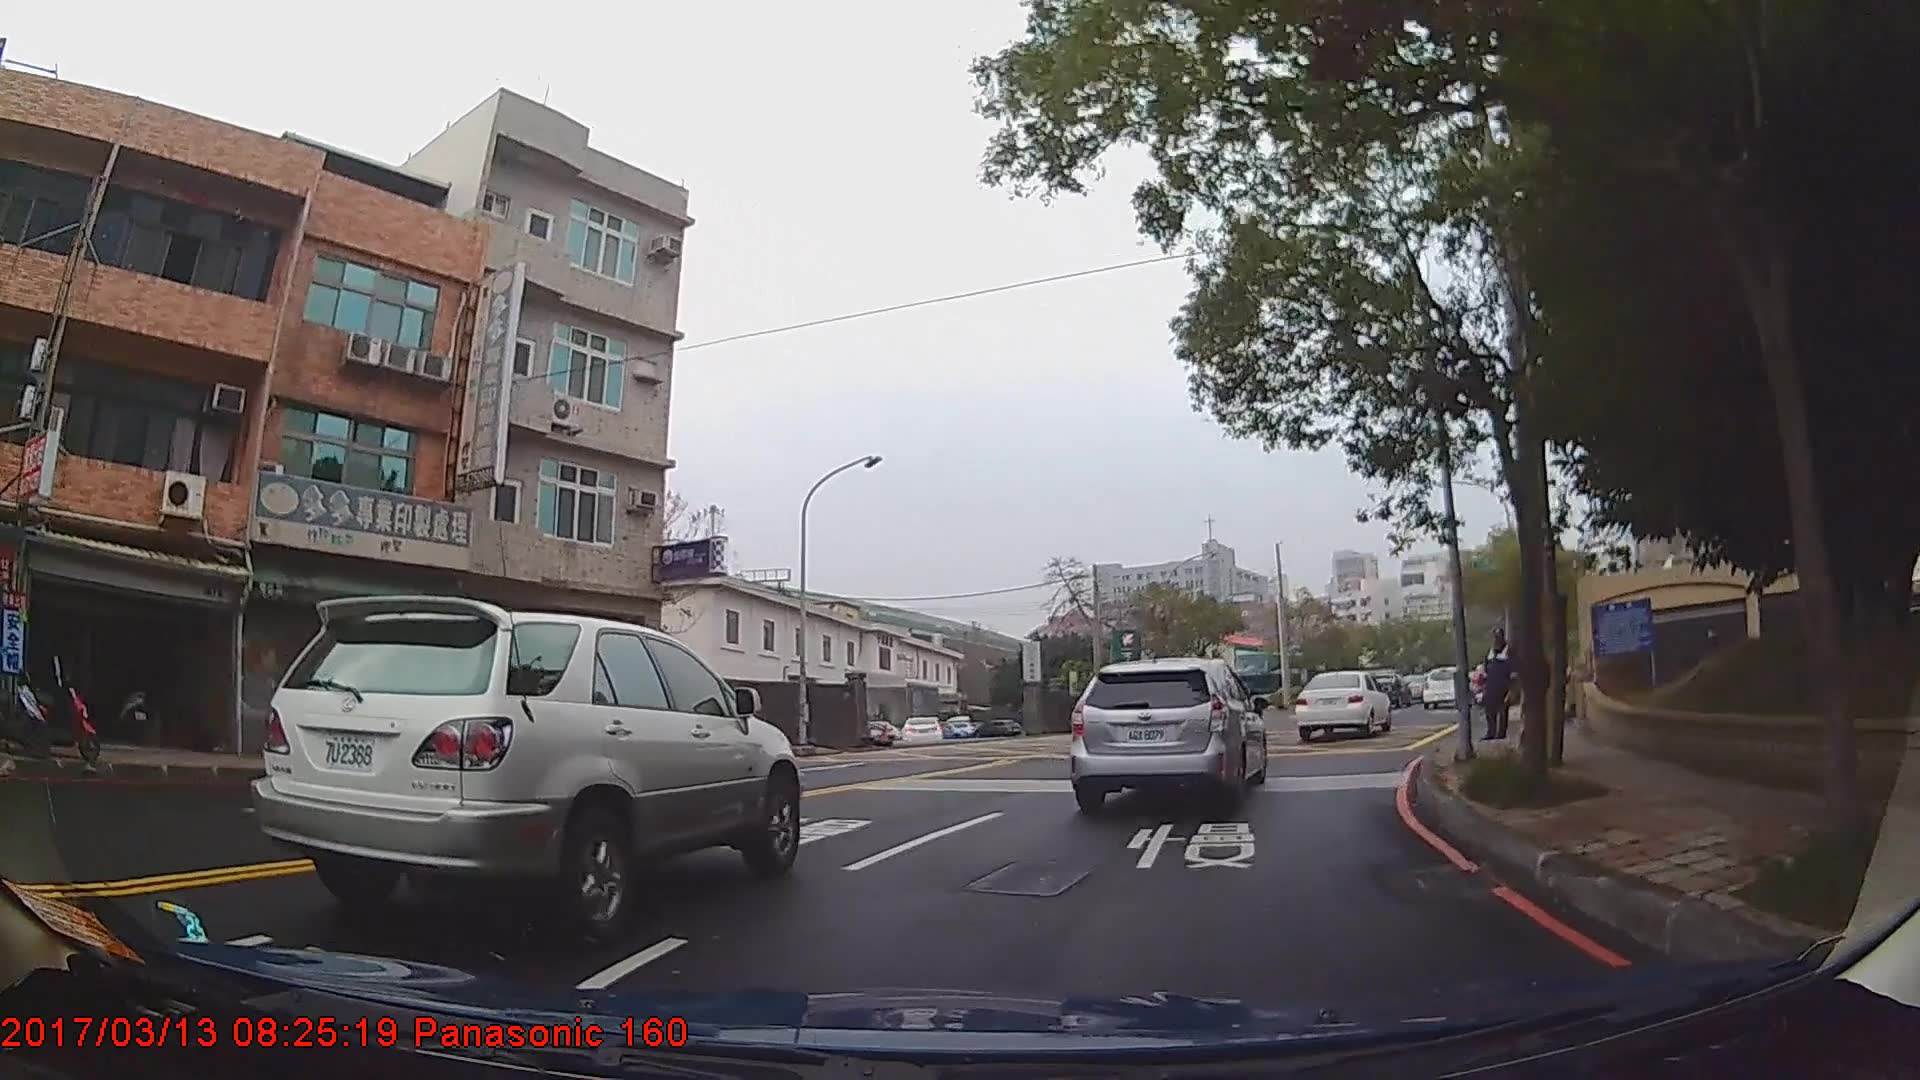pedestrian: (1485, 633, 1524, 745)
vehicle: (255, 596, 803, 947), (1066, 658, 1267, 810), (1294, 672, 1395, 742), (1420, 664, 1469, 711), (897, 716, 943, 745), (966, 718, 1022, 739)
